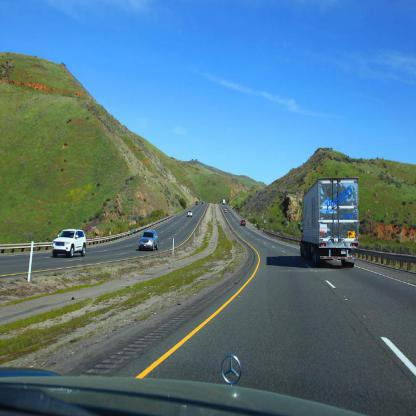Truck: (298, 177, 359, 267)
